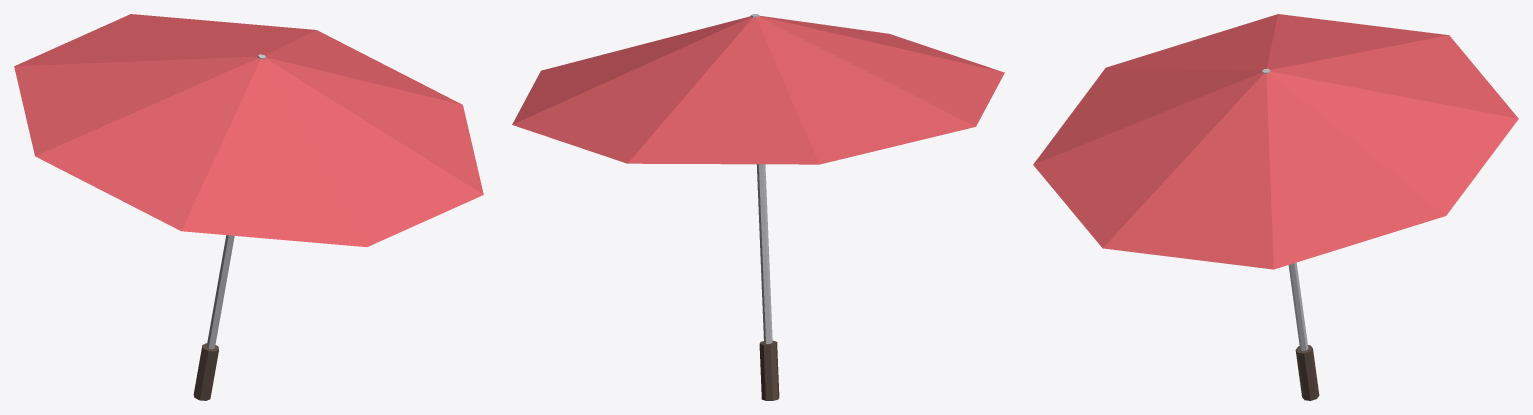
Rendered from Umbrella.glb.
The picture shows the model from 3 angles, left to right: view 1: azimuth 30°, elevation 25°; view 2: azimuth 150°, elevation 25°; view 3: azimuth 270°, elevation 25°; orthographic projection. The views are drawn at different scales.
Parts seen in each view (by area): view 1: Umbrella_Canopy, Umbrella_Shaft, Umbrella_Grip; view 2: Umbrella_Canopy, Umbrella_Shaft, Umbrella_Grip; view 3: Umbrella_Canopy, Umbrella_Grip, Umbrella_Shaft.
Part boxes in pixels (x1,y1,x2,y2): Umbrella_Canopy: (14,14,483,247); Umbrella_Shaft: (206,54,266,349); Umbrella_Grip: (193,343,218,400); Umbrella_Canopy: (512,16,1004,164); Umbrella_Shaft: (750,14,772,343); Umbrella_Grip: (759,340,779,400); Umbrella_Canopy: (1033,14,1518,269); Umbrella_Grip: (1295,345,1319,400); Umbrella_Shaft: (1262,68,1308,350).
Bounding box in the file's own units: 1.39 × 1.09 × 1.39.
